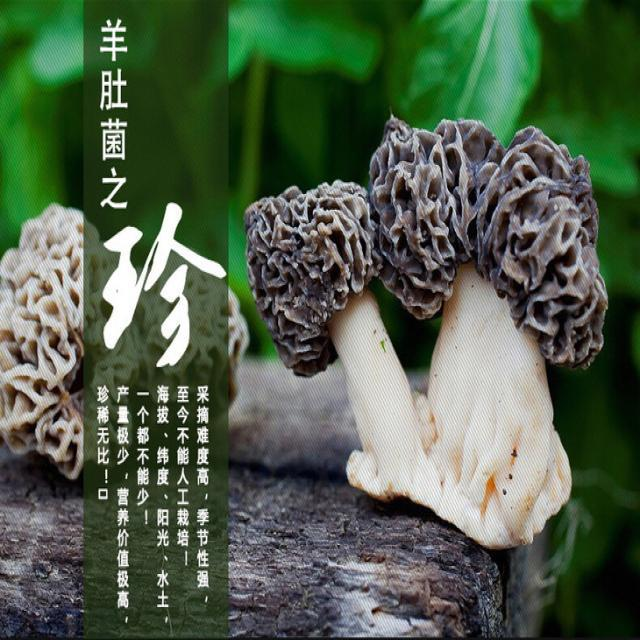Morchella esculenta: (245, 116, 606, 546)
